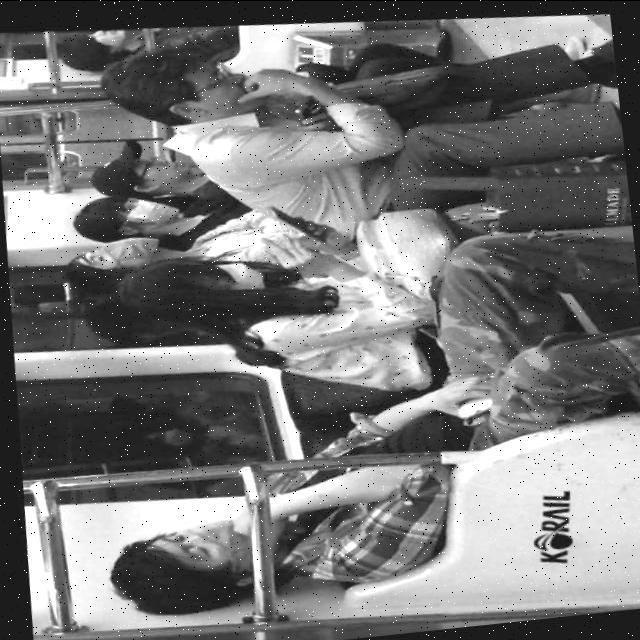mask: (206, 517, 270, 561), (132, 193, 176, 238), (220, 258, 270, 288)
no_apron: (257, 239, 353, 271), (432, 378, 502, 416), (237, 70, 307, 98)
no_gloves: (106, 543, 192, 608), (108, 270, 192, 332), (106, 66, 174, 118), (78, 200, 126, 236), (62, 39, 112, 70)
